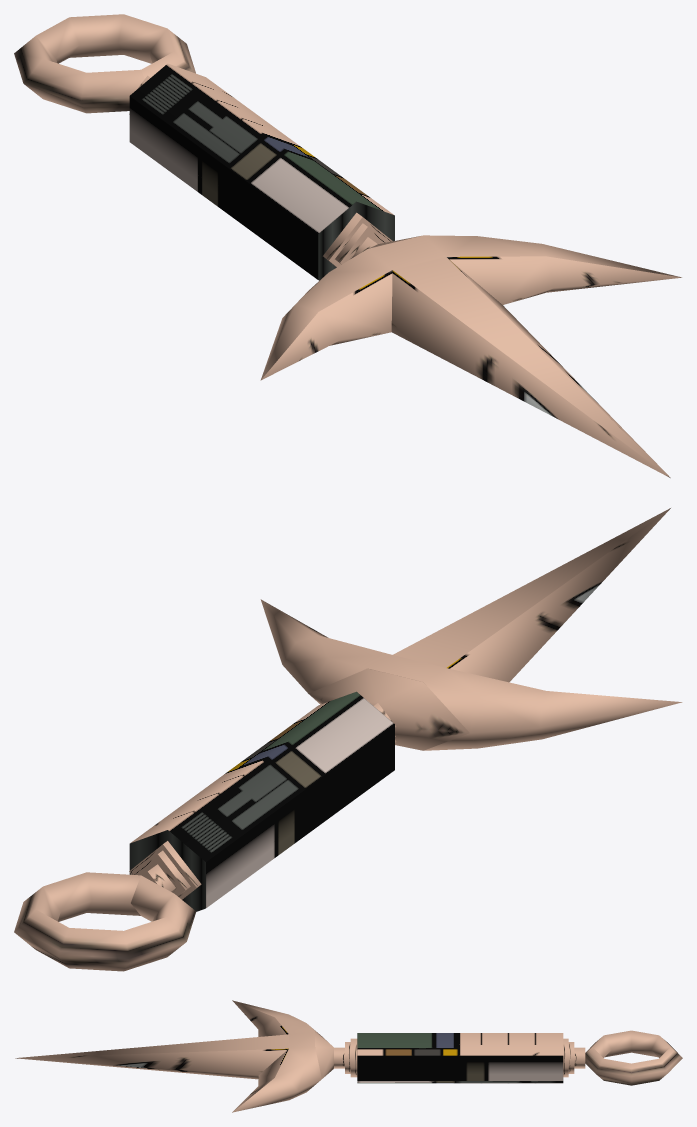
The model's file is yonda_kunai.FBX.
3 renders of one model, top to bottom at view 1: azimuth 30°, elevation 25°; view 2: azimuth 150°, elevation 25°; view 3: azimuth 270°, elevation 25°, orthographic. The views are drawn at different scales.
Visible parts, largest first — view 1: 2jgnbody; view 2: 2jgnbody; view 3: 2jgnbody.
Boxes of the visible parts, box(x1,y1,x2,y2) form: 2jgnbody: box(14, 14, 681, 477); 2jgnbody: box(14, 508, 682, 971); 2jgnbody: box(15, 1000, 682, 1112).
Bounding box in the file's own units: 10.17 × 2.13 × 25.6.
